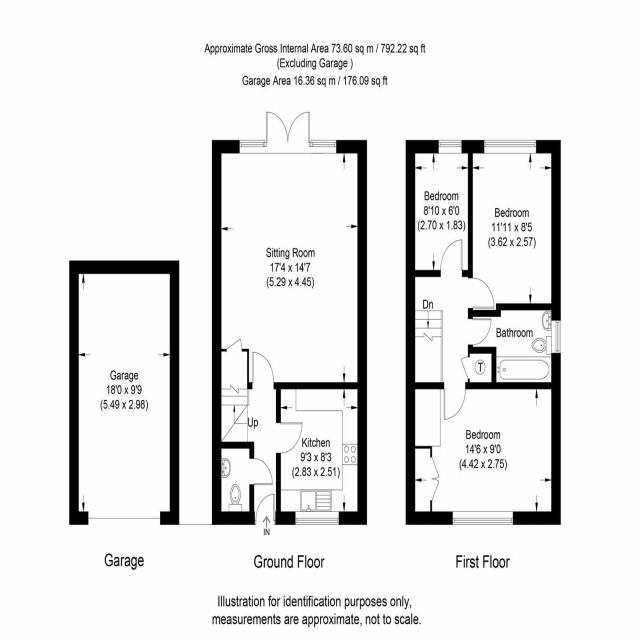DOOR: (467, 276, 495, 311), (251, 349, 275, 389), (443, 382, 467, 421), (440, 238, 463, 277), (276, 421, 303, 454), (253, 493, 276, 525), (467, 317, 492, 346), (249, 457, 273, 486)
DOUBLE DOOR: (264, 107, 311, 147)
ROOM: (211, 110, 367, 390), (405, 382, 561, 526), (468, 140, 561, 317), (276, 382, 367, 525), (405, 139, 473, 278)
WINDOW: (452, 510, 514, 526), (483, 139, 537, 154), (294, 510, 339, 526), (438, 139, 462, 154), (551, 320, 561, 355)
